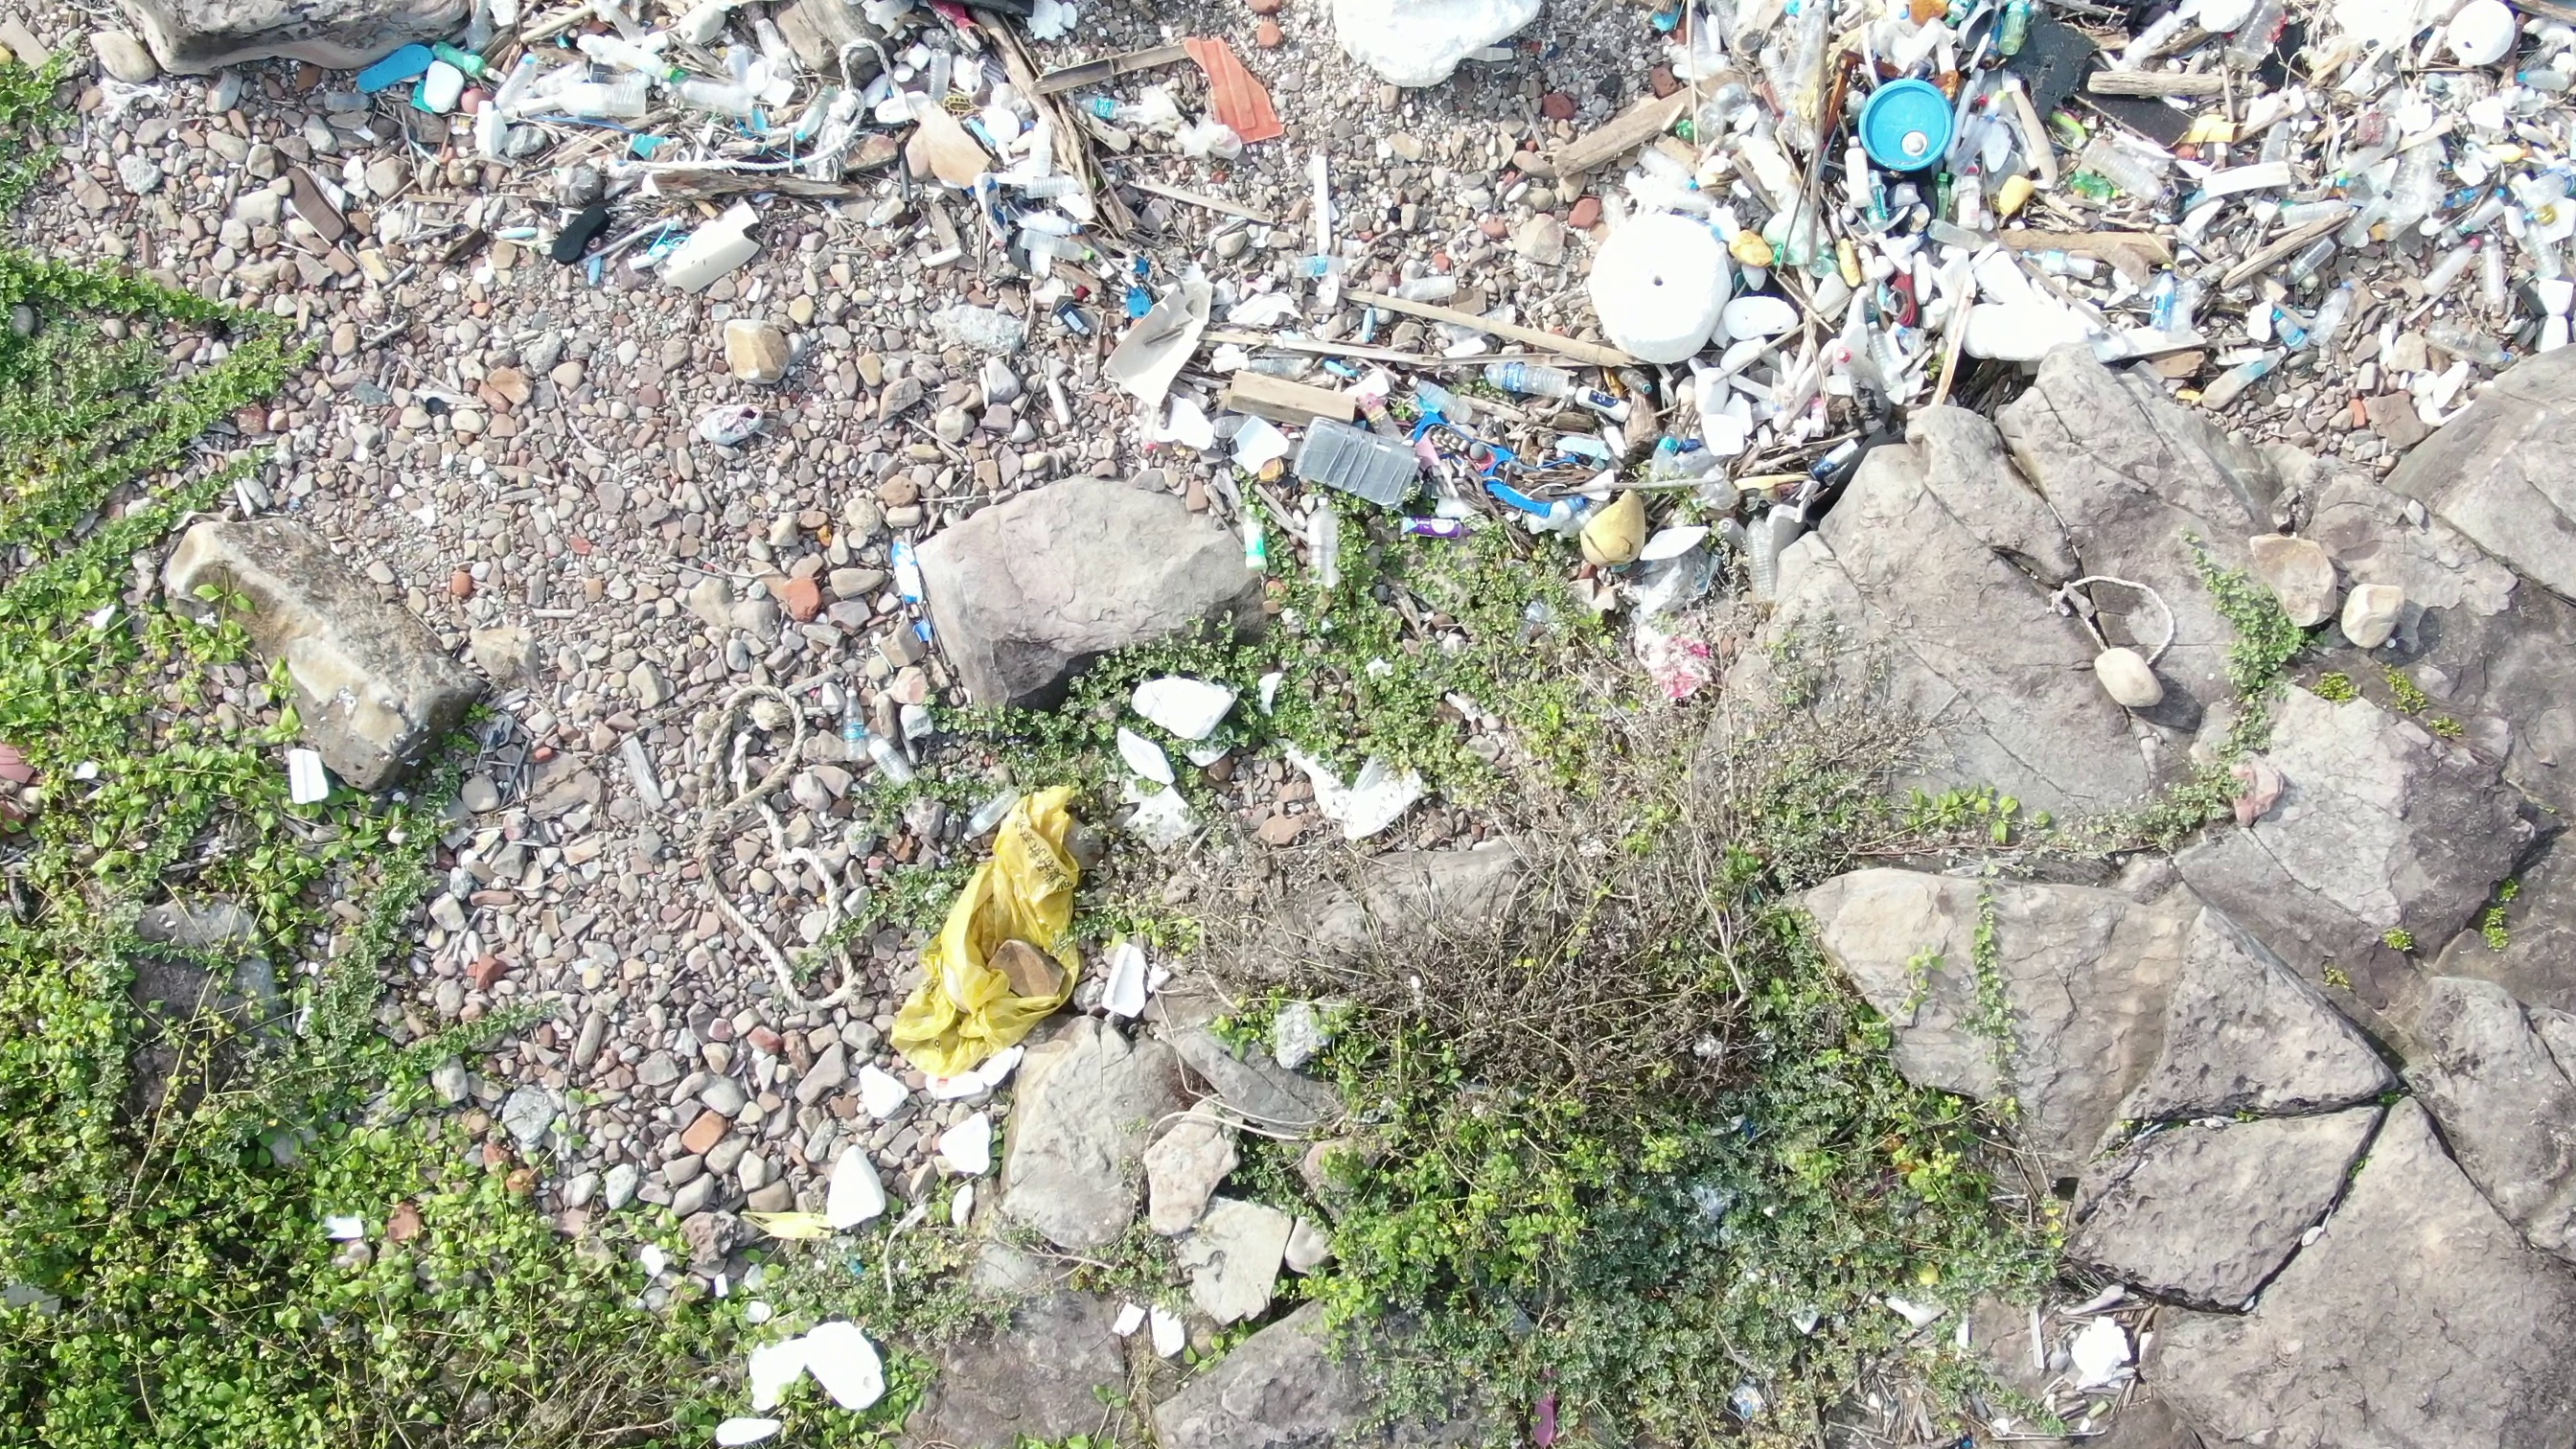garbage: (1484, 2, 2569, 571), (349, 2, 1113, 317), (1120, 2, 1483, 577), (878, 770, 1099, 1085), (51, 2, 395, 106)
